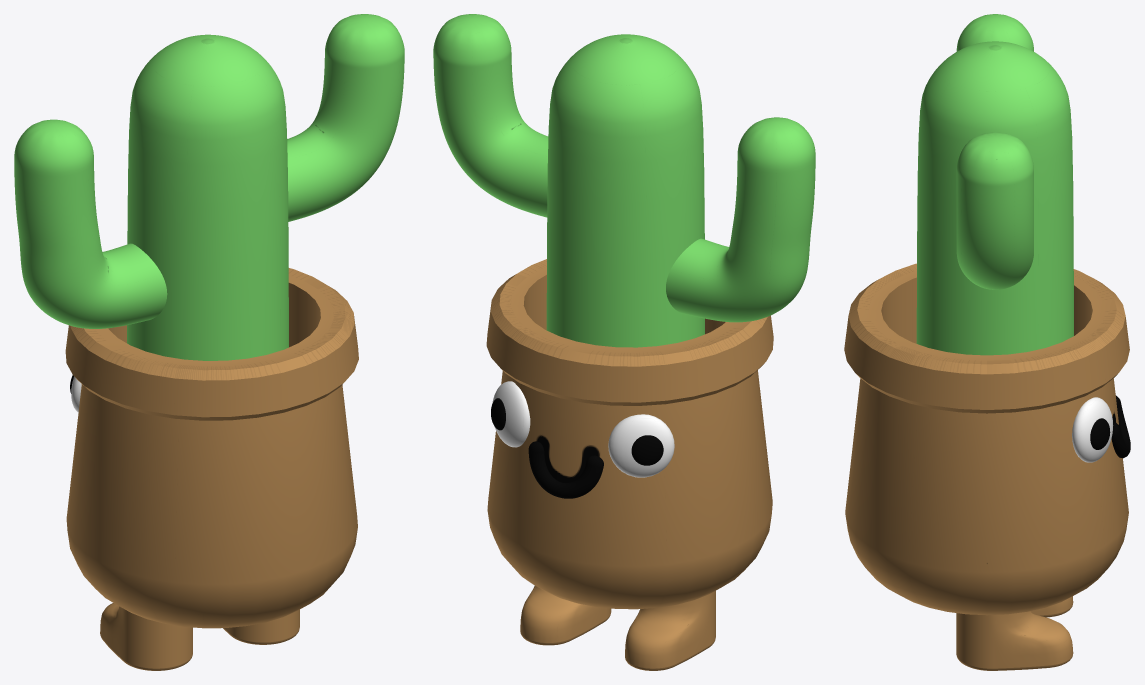
File: pot 1.fbx
3 views of the same model, side by side, from view 1: azimuth 30°, elevation 25°; view 2: azimuth 150°, elevation 25°; view 3: azimuth 270°, elevation 25° (orthographic). The views are drawn at different scales.
Parts seen in each view (by area): view 1: Cylinder, NurbsPath.001; view 2: NurbsPath.001, Cylinder, Sphere, NurbsPath; view 3: Cylinder, NurbsPath.001, Sphere, NurbsPath.
Boxes of the visible parts, bbox=[...] form: Cylinder: bbox=[65, 268, 358, 670]; NurbsPath.001: bbox=[14, 14, 404, 360]; NurbsPath.001: bbox=[433, 14, 815, 347]; Cylinder: bbox=[486, 259, 773, 670]; Sphere: bbox=[491, 381, 674, 477]; NurbsPath: bbox=[528, 441, 603, 498]; Cylinder: bbox=[844, 263, 1129, 670]; NurbsPath.001: bbox=[916, 14, 1073, 355]; Sphere: bbox=[1072, 397, 1113, 462]; NurbsPath: bbox=[1111, 395, 1130, 458].
Bounding box in the file's own units: 331 × 503 × 222.
Materials: 1 (1 with a texture image).
